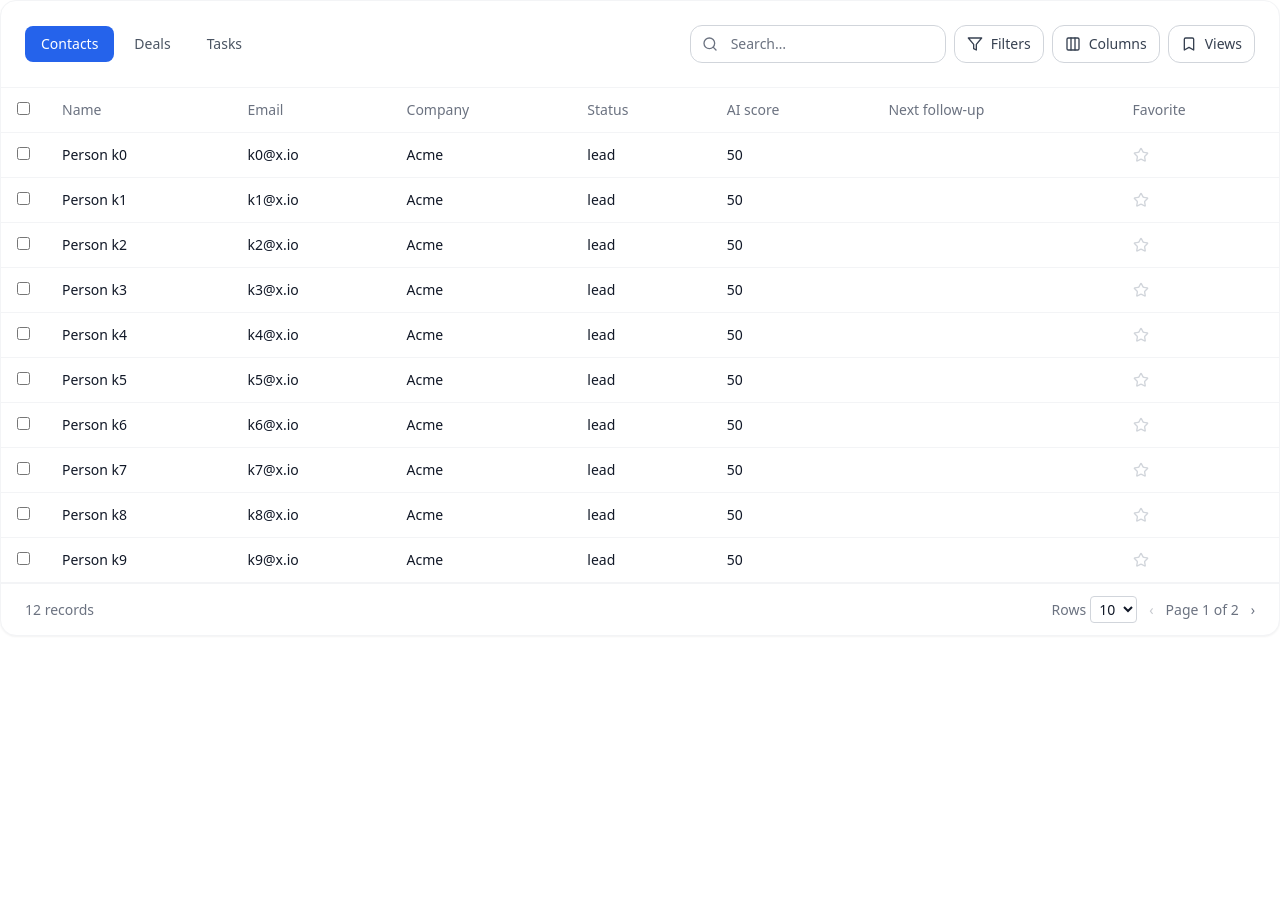
Test: RecordTable › select-all covers the page and pages through results
Check: the text "Page 1 of 2" is shown, box 1166,600 -> 1239,620
Click the checkbox named "Select all on this page" at (24, 108), box 17,102 -> 30,115
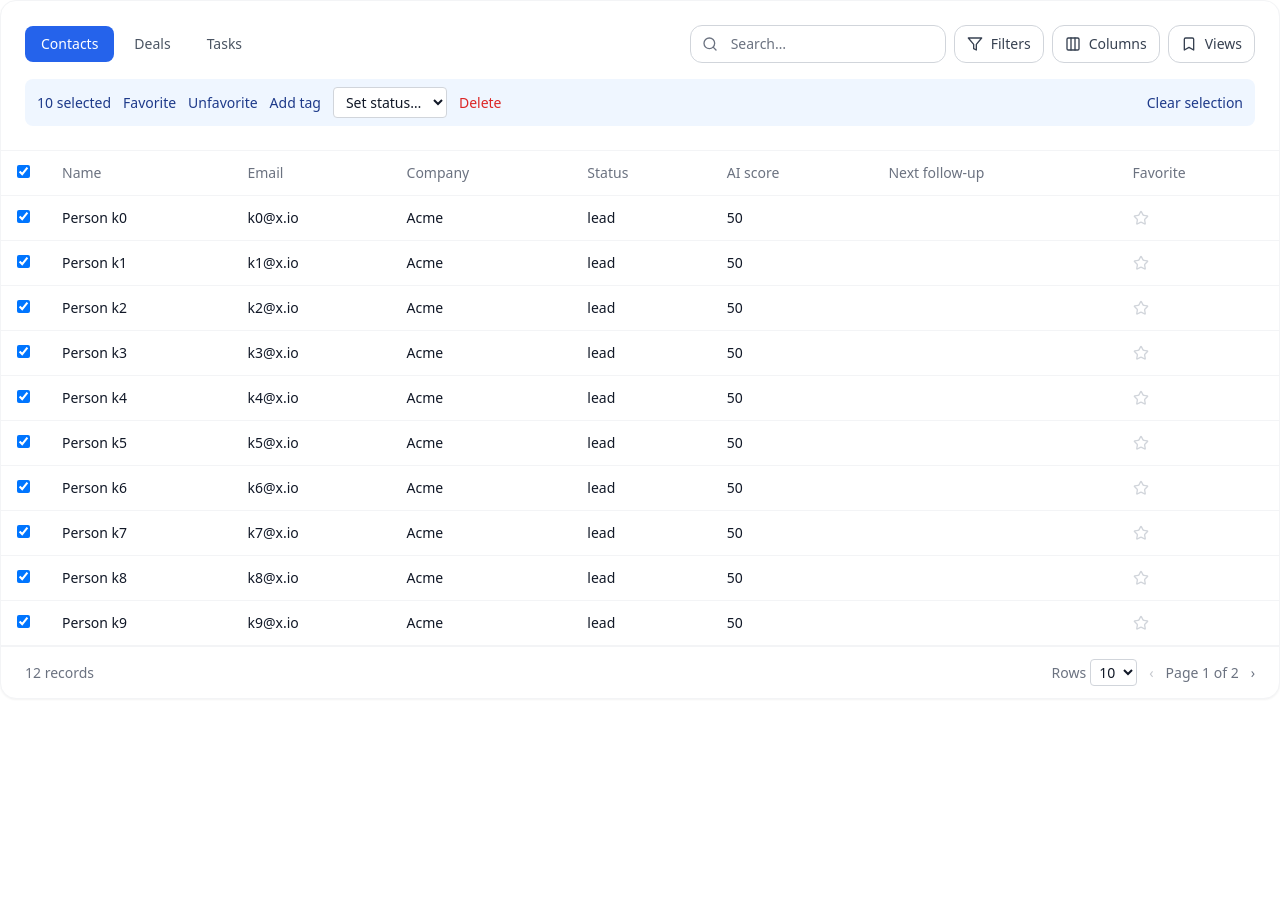
Check: the text "10 selected" is shown, box 37,92 -> 111,112
Click the button named "Next page" at (1253, 672), box 1251,662 -> 1255,682
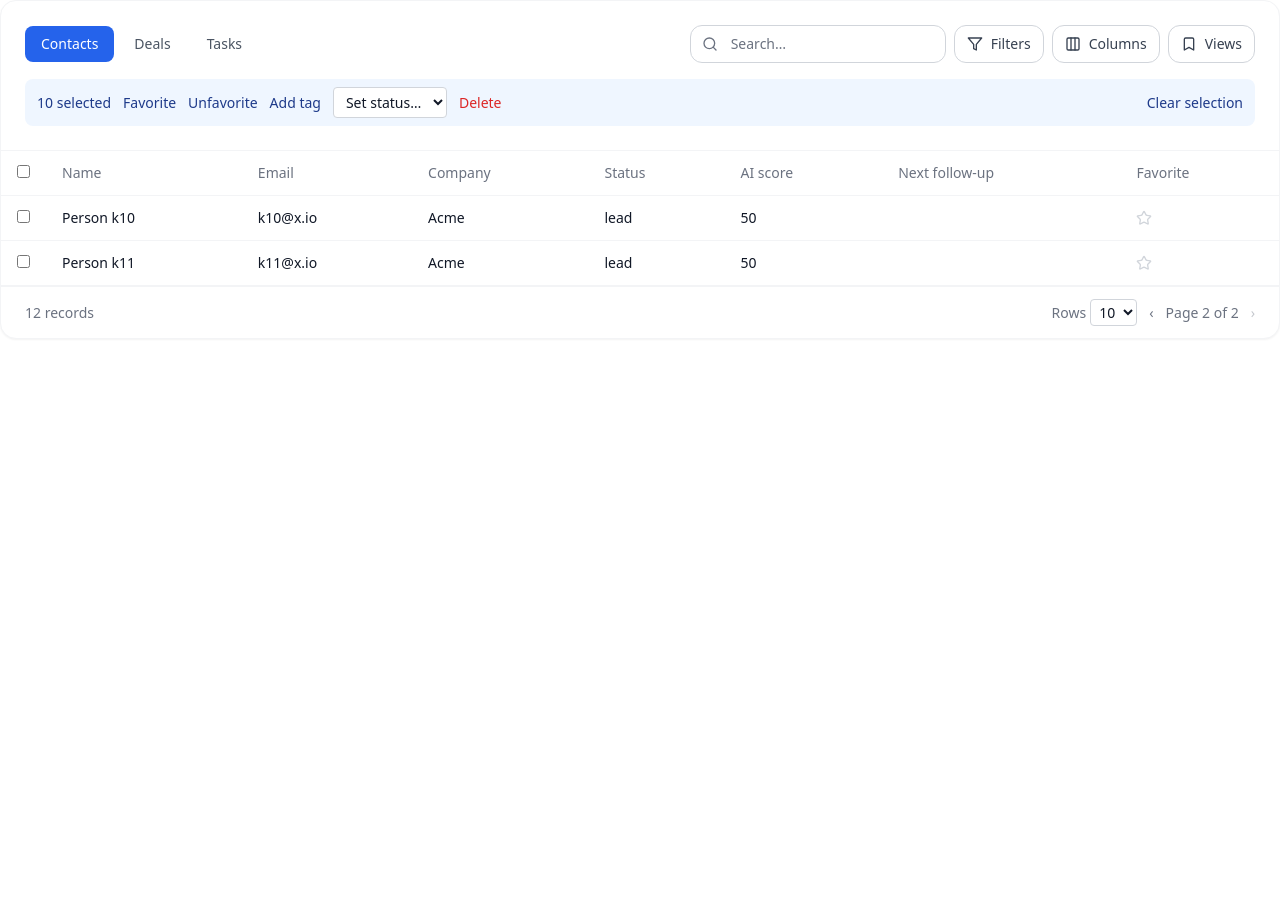
Check: the text "Page 2 of 2" is shown, box 1166,302 -> 1239,322
Check: the number of rows is 3, box 1,151 -> 1279,196; 1,196 -> 1279,240; 1,240 -> 1279,286
